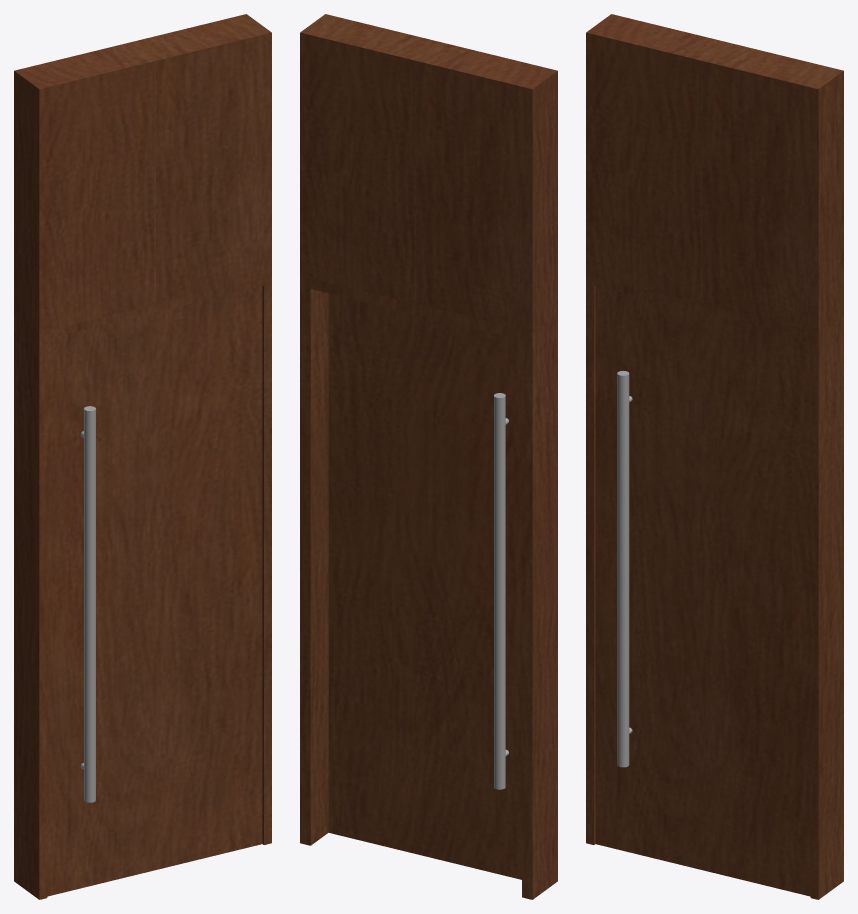
The model's file is door2.glb.
The picture shows the model from 3 angles, left to right: view 1: azimuth 30°, elevation 25°; view 2: azimuth 150°, elevation 25°; view 3: azimuth 330°, elevation 25°; orthographic projection.
Parts seen in each view (by area): view 1: object 4, root, object 3, object 2; view 2: object 4, root, object 3, object 5; view 3: object 4, root, object 3, object 2.
Boxes of the visible parts, x1,y1,x2,y2 form: object 4: (47,286,262,896); root: (14,14,271,332); object 3: (14,276,271,899); object 2: (80,406,95,802); object 4: (328,293,521,879); root: (300,14,557,332); object 3: (300,276,557,899); object 5: (494,393,508,789); object 4: (595,286,810,896); root: (586,14,843,332); object 3: (586,276,843,899); object 2: (617,370,632,767).
Size of the model in its own units: 0.9 by 3 by 0.235.
2 materials, 1 textured.
